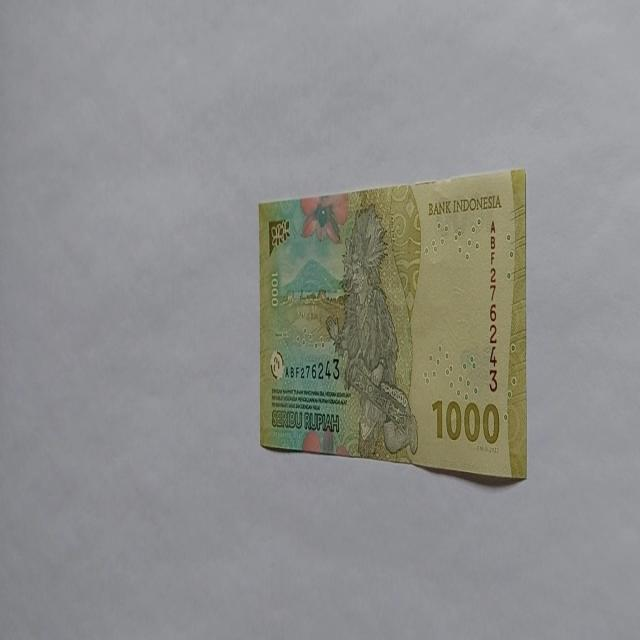seribu rupiah kertas: (258, 166, 528, 482)
